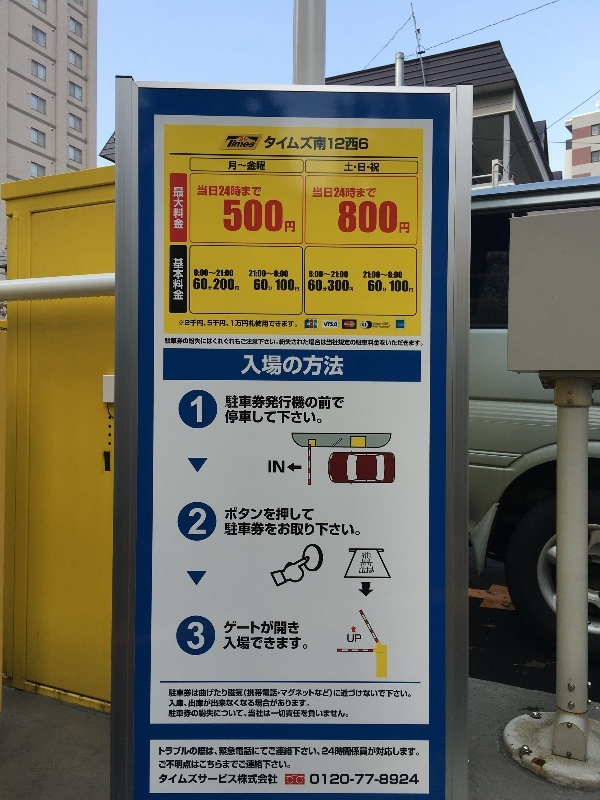text: (353, 201, 368, 234), (369, 201, 384, 234), (385, 201, 400, 234), (225, 199, 240, 232), (241, 199, 256, 232), (257, 199, 272, 232), (273, 199, 288, 232), (339, 201, 352, 234), (193, 622, 206, 651), (193, 508, 206, 535), (257, 356, 272, 377), (273, 356, 288, 377), (289, 356, 304, 377), (305, 356, 320, 377), (321, 356, 336, 377), (401, 201, 410, 234), (177, 188, 184, 229), (177, 259, 184, 300), (243, 356, 256, 377), (193, 396, 203, 423), (273, 136, 288, 151), (289, 136, 304, 151), (305, 136, 320, 151), (321, 136, 336, 151), (337, 136, 352, 151), (353, 136, 368, 151), (241, 395, 256, 409), (257, 395, 272, 409), (273, 395, 288, 409), (289, 395, 304, 409), (305, 395, 320, 409), (321, 395, 336, 409), (241, 410, 256, 424), (257, 410, 272, 424), (273, 410, 288, 424), (289, 410, 304, 424), (305, 410, 320, 424), (241, 507, 256, 521), (257, 507, 272, 521), (273, 507, 288, 521), (289, 507, 304, 521), (225, 522, 240, 536), (241, 522, 256, 536), (257, 522, 272, 536), (273, 522, 288, 536), (289, 522, 304, 536), (305, 522, 320, 536), (321, 522, 336, 536), (337, 522, 352, 536), (225, 621, 240, 635), (241, 621, 256, 635), (257, 621, 272, 635), (273, 621, 288, 635), (241, 637, 256, 651), (257, 637, 272, 651), (273, 637, 288, 651), (289, 637, 304, 651), (289, 199, 295, 232), (226, 395, 240, 409), (226, 410, 240, 424), (226, 507, 240, 521), (226, 637, 240, 651), (321, 774, 336, 787), (337, 774, 352, 787), (353, 774, 368, 787), (369, 774, 384, 787), (385, 774, 400, 787), (401, 774, 416, 787), (257, 279, 273, 291), (241, 136, 256, 148), (369, 280, 384, 292), (337, 280, 352, 292), (209, 185, 224, 197), (225, 185, 240, 197), (241, 185, 256, 197), (194, 278, 208, 290), (225, 279, 239, 291), (321, 187, 336, 198), (337, 187, 352, 198), (353, 187, 368, 198), (161, 775, 176, 786), (177, 775, 192, 786), (193, 775, 208, 786), (209, 775, 224, 786), (225, 775, 240, 786), (241, 775, 256, 786), (257, 775, 272, 786), (273, 460, 285, 473), (289, 621, 300, 635), (241, 161, 256, 171), (177, 338, 192, 348), (193, 338, 208, 348), (209, 338, 224, 348), (225, 338, 240, 348), (241, 338, 256, 348), (257, 338, 272, 348), (273, 338, 288, 348), (289, 338, 304, 348), (305, 338, 320, 348), (321, 338, 336, 348), (337, 338, 352, 348), (353, 338, 368, 348), (369, 338, 384, 348), (385, 338, 400, 348), (401, 338, 416, 348), (161, 748, 176, 758), (177, 748, 192, 758), (193, 748, 208, 758), (209, 748, 224, 758), (225, 748, 240, 758), (241, 748, 256, 758), (257, 748, 272, 758), (273, 748, 288, 758), (289, 748, 304, 758), (305, 748, 320, 758), (321, 748, 336, 758), (337, 748, 352, 758), (353, 748, 368, 758), (369, 748, 384, 758), (385, 748, 400, 758), (401, 748, 416, 758), (337, 356, 344, 377), (187, 622, 192, 651), (275, 280, 288, 291), (353, 163, 368, 172), (177, 710, 192, 719), (193, 710, 208, 719), (209, 710, 224, 719), (225, 710, 240, 719), (241, 710, 256, 719), (257, 710, 272, 719), (273, 710, 288, 719), (289, 710, 304, 719), (305, 710, 320, 719), (321, 710, 336, 719), (161, 761, 176, 770), (177, 761, 192, 770), (193, 761, 208, 770), (209, 761, 224, 770), (225, 761, 240, 770), (241, 761, 256, 770), (257, 761, 272, 770), (273, 761, 288, 770), (229, 136, 240, 148), (401, 281, 413, 292), (309, 280, 320, 292), (362, 552, 368, 574), (369, 552, 375, 574), (305, 507, 314, 521), (389, 281, 400, 292), (264, 136, 272, 151), (369, 271, 384, 279), (385, 271, 400, 279), (198, 185, 208, 197), (209, 269, 224, 277), (214, 279, 224, 291), (193, 320, 208, 328), (209, 320, 224, 328), (225, 320, 240, 328), (241, 320, 256, 328), (257, 320, 272, 328), (273, 320, 288, 328), (177, 690, 192, 698), (193, 690, 208, 698), (209, 690, 224, 698), (225, 690, 240, 698), (241, 690, 256, 698), (257, 690, 272, 698), (273, 690, 288, 698), (289, 690, 304, 698), (305, 690, 320, 698), (321, 690, 336, 698), (337, 690, 352, 698), (353, 690, 368, 698), (369, 690, 384, 698), (385, 690, 400, 698), (177, 700, 192, 708), (193, 700, 208, 708), (209, 700, 224, 708), (225, 700, 240, 708), (241, 700, 256, 708), (257, 700, 272, 708), (273, 700, 288, 708), (289, 700, 304, 708), (311, 774, 320, 787), (194, 269, 208, 277), (273, 270, 289, 277), (229, 161, 240, 171), (289, 280, 299, 291), (165, 338, 176, 348), (337, 710, 349, 719), (321, 271, 336, 278), (257, 270, 272, 277), (179, 320, 192, 328), (369, 163, 380, 172), (337, 395, 344, 409), (353, 522, 360, 536), (328, 280, 336, 292), (257, 161, 266, 171), (174, 188, 176, 229), (174, 259, 176, 300), (189, 508, 192, 535), (353, 634, 362, 643), (401, 690, 411, 698), (313, 187, 320, 198), (369, 187, 376, 198), (309, 271, 320, 278), (337, 271, 348, 278), (344, 163, 352, 172), (321, 280, 327, 292), (225, 269, 234, 277), (289, 320, 297, 328), (169, 710, 176, 719), (241, 138, 256, 142), (324, 322, 336, 327), (417, 338, 423, 348), (306, 322, 320, 326), (169, 690, 176, 698), (273, 775, 278, 786), (268, 460, 272, 473), (249, 270, 256, 277), (257, 185, 261, 197), (170, 700, 176, 708), (305, 637, 308, 651), (363, 271, 368, 279), (374, 322, 384, 326), (305, 700, 310, 708), (209, 278, 212, 290), (348, 634, 352, 643), (374, 325, 384, 328), (191, 396, 192, 423), (417, 774, 419, 787), (257, 136, 259, 148), (254, 279, 256, 291), (344, 323, 352, 326), (417, 748, 419, 758), (385, 325, 391, 328), (385, 322, 389, 326), (321, 410, 322, 424), (385, 280, 386, 292), (353, 280, 354, 292), (159, 775, 160, 786), (159, 748, 160, 758), (159, 761, 160, 770), (289, 761, 290, 770), (401, 271, 402, 279), (353, 323, 355, 326), (337, 322, 338, 327)
